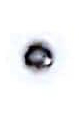cancer: (9, 26, 71, 87)
